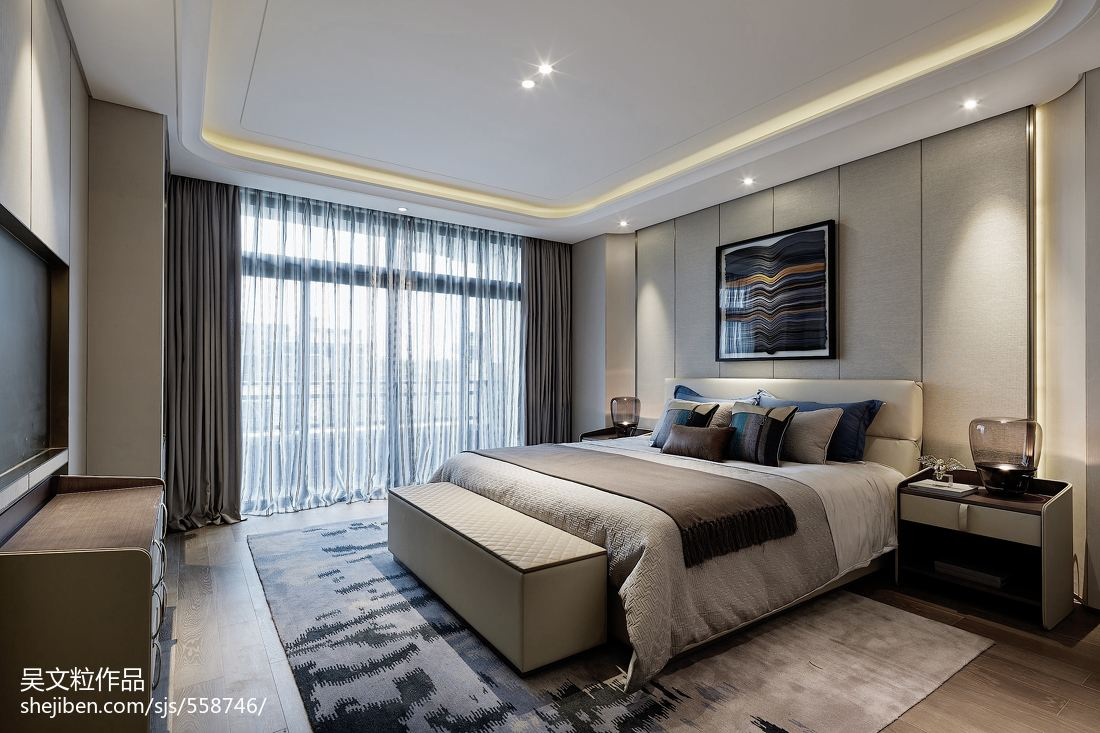床: (391, 431, 895, 669)
枕头: (650, 391, 882, 468)
灯: (963, 417, 1039, 491), (513, 47, 563, 97), (601, 389, 644, 432), (950, 96, 979, 117), (730, 176, 756, 193), (607, 217, 633, 232), (394, 205, 408, 216)
